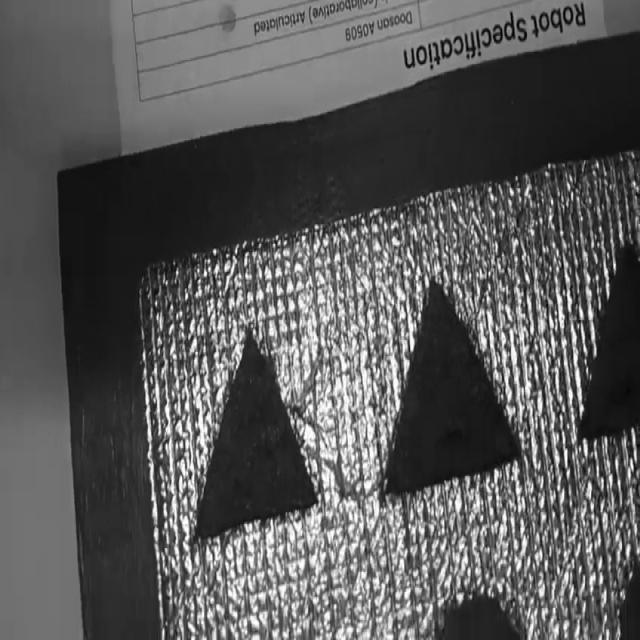mttriangle: (380, 282, 522, 498), (191, 330, 321, 542), (576, 239, 640, 442)
wb: (129, 126, 637, 639)
